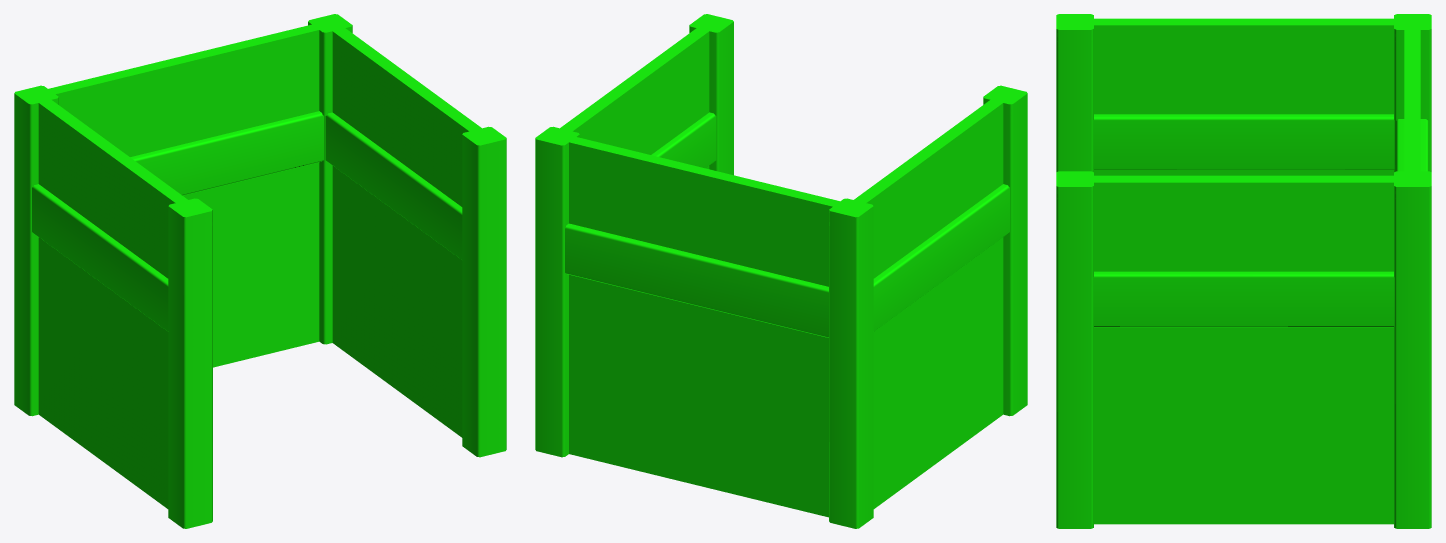
Rendered from SM_ElevatorShaft_1.FBX.
3 views of the same model, side by side, from view 1: azimuth 30°, elevation 25°; view 2: azimuth 150°, elevation 25°; view 3: azimuth 270°, elevation 25° (orthographic). The views are drawn at different scales.
Visible parts, largest first — view 1: ElevatorShaft; view 2: ElevatorShaft; view 3: ElevatorShaft.
Part boxes in pixels (x1,y1,x2,y2): ElevatorShaft: [14, 14, 506, 528]; ElevatorShaft: [535, 14, 1027, 528]; ElevatorShaft: [1056, 14, 1431, 528].
Size of the model in its own units: 214 by 197 by 196.
